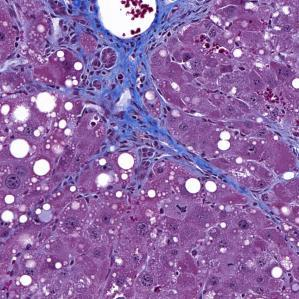fibrosis: (70, 23, 167, 126), (170, 147, 263, 201)
